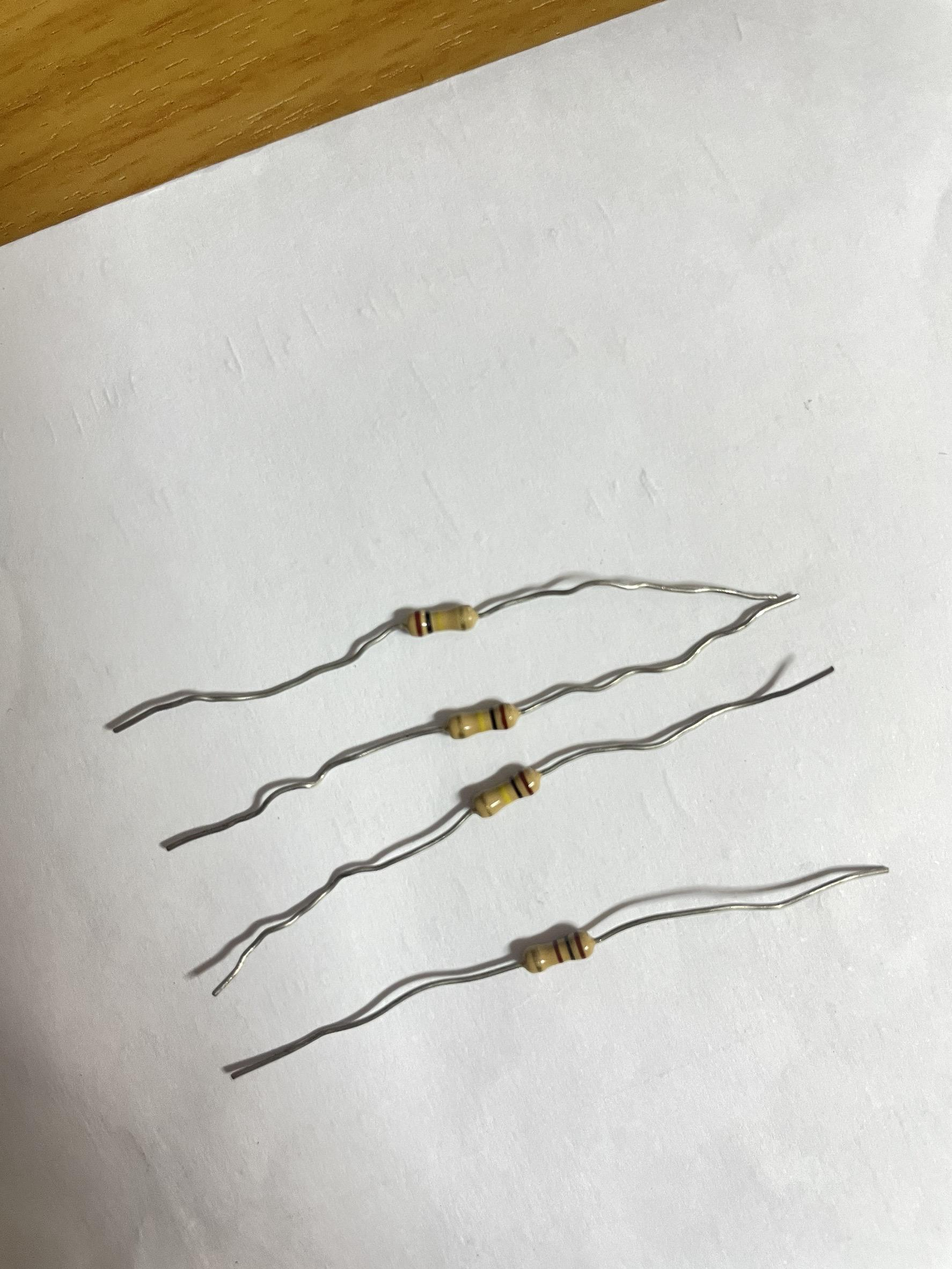resistor: (523, 926, 599, 975), (477, 767, 541, 817), (399, 601, 479, 640), (447, 696, 521, 737)
